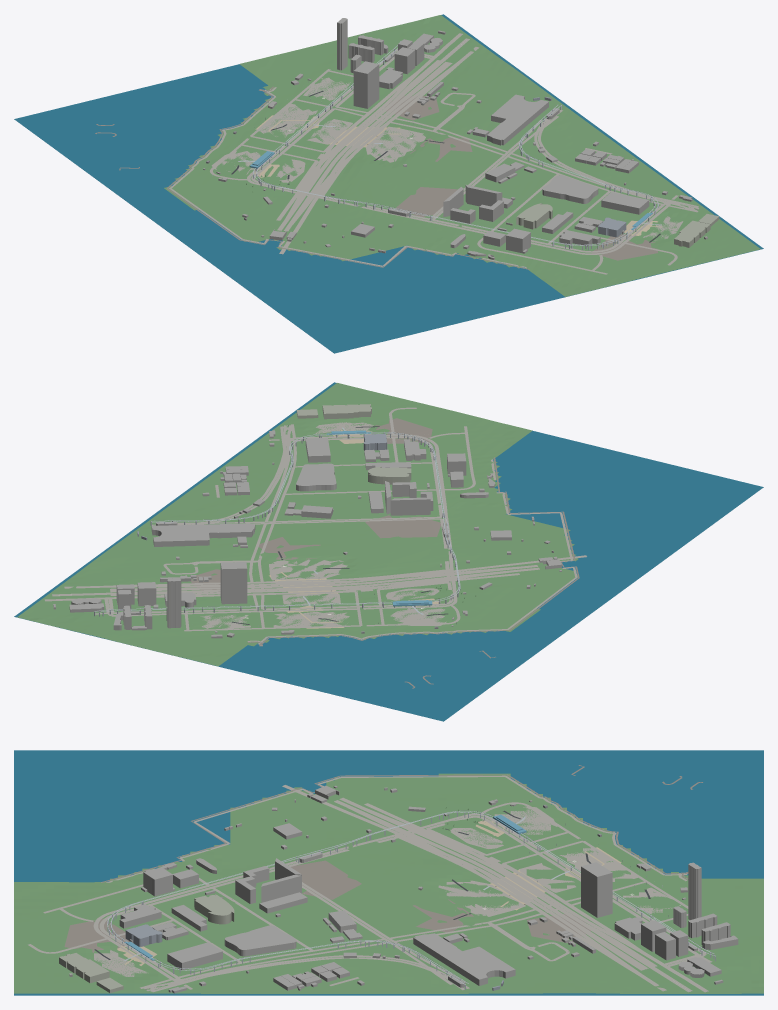
Rendered from odaiba_district_v01_environment.glb.
3 renders of one model, top to bottom at view 1: azimuth 30°, elevation 25°; view 2: azimuth 150°, elevation 25°; view 3: azimuth 270°, elevation 25°, orthographic. The views are drawn at different scales.
Visible parts, largest first — view 1: TERRAIN_LOW_DENSITY, WATER_MAIN, SIDEWALK_NETWORK, CTX_north_east_unknown, PHASE03C_LANDSCAPE, BUILDING_PADS, CTX_central_east_unknown, CTX_south_east_unknown, PHASE03C_SERVICE_AREA, CTX_south_public_cultural, YURIKAMOME_GUIDEWAY, WATERFRONT_PROMENADE (+4 smaller); view 2: TERRAIN_LOW_DENSITY, WATER_MAIN, SIDEWALK_NETWORK, CTX_north_east_unknown, PHASE03C_LANDSCAPE, BUILDING_PADS, CTX_central_east_unknown, PHASE03C_SERVICE_AREA, CTX_south_east_unknown, CTX_south_public_cultural, YURIKAMOME_GUIDEWAY, WATERFRONT_PROMENADE (+4 smaller); view 3: TERRAIN_LOW_DENSITY, WATER_MAIN, SIDEWALK_NETWORK, CTX_north_east_unknown, PHASE03C_LANDSCAPE, CTX_central_east_unknown, BUILDING_PADS, CTX_south_east_unknown, PHASE03C_SERVICE_AREA, CTX_south_public_cultural, YURIKAMOME_GUIDEWAY, WATERFRONT_PROMENADE (+7 smaller).
Boxes of the visible parts, bbox=[...] form: TERRAIN_LOW_DENSITY: bbox=[164, 15, 760, 296]; WATER_MAIN: bbox=[14, 14, 763, 353]; SIDEWALK_NETWORK: bbox=[210, 33, 699, 274]; CTX_north_east_unknown: bbox=[291, 18, 559, 145]; PHASE03C_LANDSCAPE: bbox=[238, 150, 590, 234]; BUILDING_PADS: bbox=[211, 77, 683, 240]; CTX_central_east_unknown: bbox=[403, 141, 638, 223]; CTX_south_east_unknown: bbox=[479, 182, 707, 253]; PHASE03C_SERVICE_AREA: bbox=[382, 95, 657, 260]; CTX_south_public_cultural: bbox=[516, 203, 719, 247]; YURIKAMOME_GUIDEWAY: bbox=[253, 41, 658, 245]; WATERFRONT_PROMENADE: bbox=[169, 87, 526, 268]; TERRAIN_LOW_DENSITY: bbox=[17, 383, 578, 666]; WATER_MAIN: bbox=[14, 382, 763, 721]; SIDEWALK_NETWORK: bbox=[44, 407, 586, 631]; CTX_north_east_unknown: bbox=[53, 521, 255, 638]; PHASE03C_LANDSCAPE: bbox=[274, 458, 483, 604]; BUILDING_PADS: bbox=[200, 422, 446, 628]; CTX_central_east_unknown: bbox=[202, 463, 433, 554]; PHASE03C_SERVICE_AREA: bbox=[190, 418, 440, 592]; CTX_south_east_unknown: bbox=[269, 430, 466, 497]; CTX_south_public_cultural: bbox=[296, 404, 411, 484]; YURIKAMOME_GUIDEWAY: bbox=[95, 432, 460, 612]; WATERFRONT_PROMENADE: bbox=[247, 459, 577, 645]; TERRAIN_LOW_DENSITY: bbox=[14, 773, 763, 993]; WATER_MAIN: bbox=[14, 750, 763, 995]; SIDEWALK_NETWORK: bbox=[28, 785, 712, 992]; CTX_north_east_unknown: bbox=[413, 862, 738, 987]; PHASE03C_LANDSCAPE: bbox=[179, 804, 483, 944]; CTX_central_east_unknown: bbox=[224, 858, 422, 990]; BUILDING_PADS: bbox=[94, 806, 680, 976]; CTX_south_east_unknown: bbox=[69, 867, 255, 993]; PHASE03C_SERVICE_AREA: bbox=[64, 860, 590, 952]; CTX_south_public_cultural: bbox=[59, 894, 234, 993]; YURIKAMOME_GUIDEWAY: bbox=[107, 811, 714, 984]; WATERFRONT_PROMENADE: bbox=[106, 775, 687, 882].
Size of the model in its own units: 1450 by 152 by 1872.
